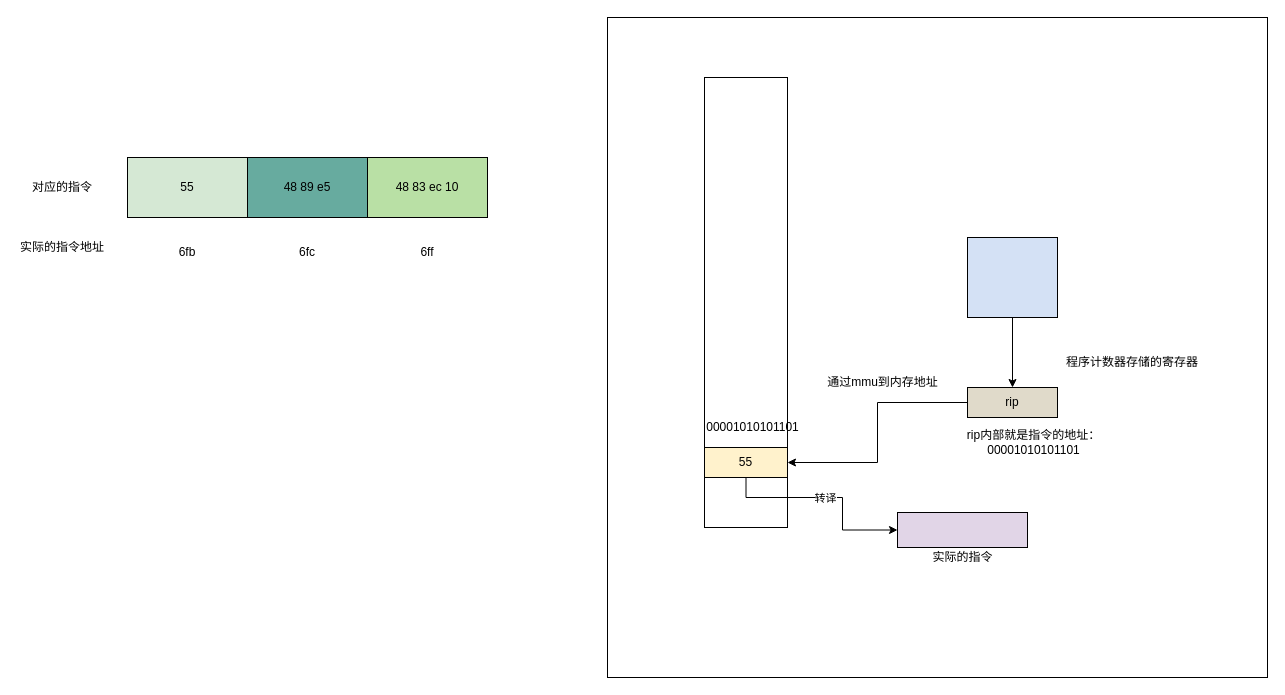
The diagram is 1285 pixels wide and 695 high, and some of its shapes have lost their labels. Here are the shapes that lost their labels. From the top down, the centre of each, then its label:
At (1012,277): "CPU".
At (962,530): "mov %rax %rbx".
